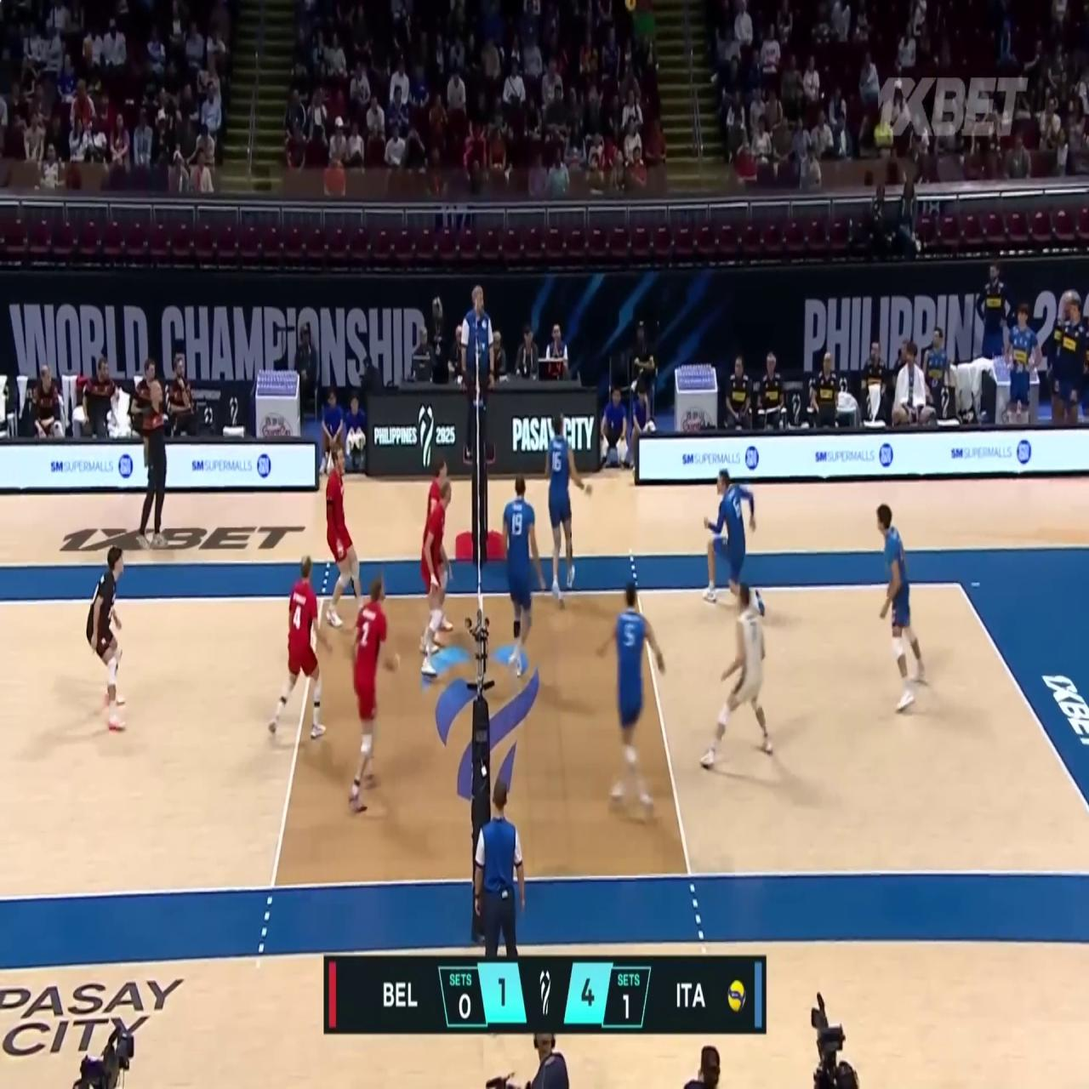ball: (623, 0, 635, 12)
